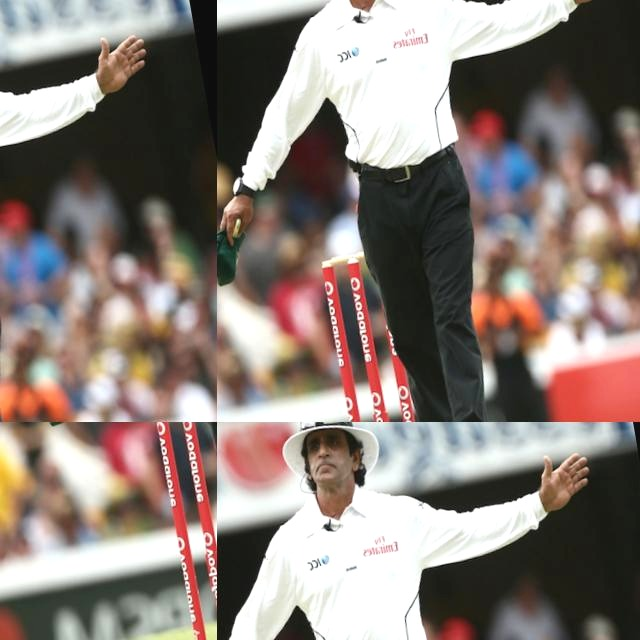No_Action: (0, 33, 144, 291)
No_Ball: (217, 422, 640, 640), (415, 0, 640, 180)
